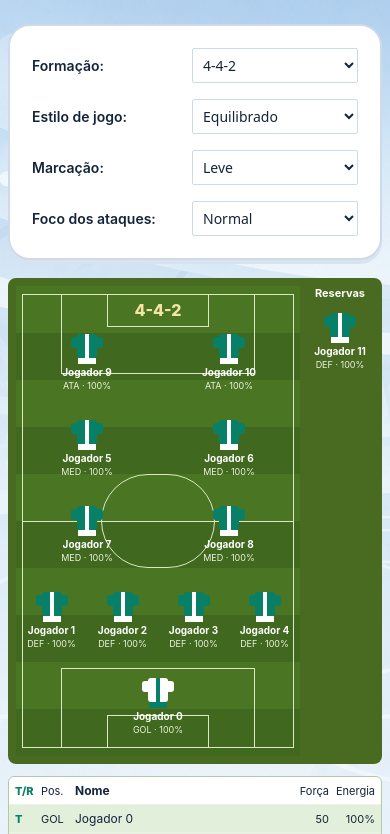
Test case: rapid player swaps stay editable and save the final lineup in order
Expected: the element named "Campo: formação 4-4-2" is shown, [16,286,300,756]
Click the button with aria-label "Substituir Jogador 1": {"x": 52, "y": 620} [18,589,84,652]
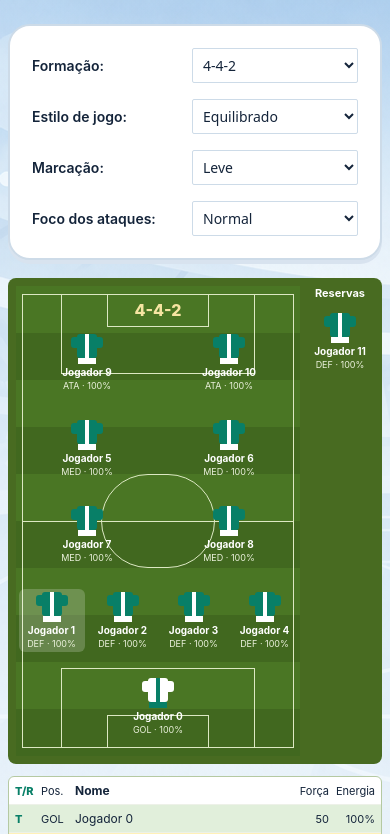
Click the button with aria-label "Reserva Jogador 11": {"x": 340, "y": 342} [307,310,373,373]
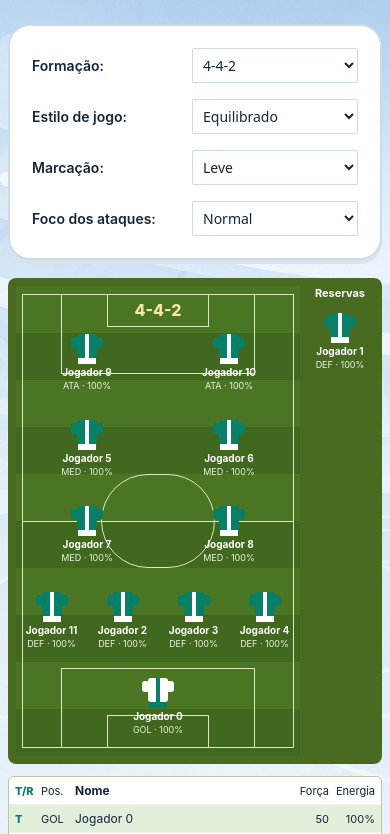
Click the button with aria-label "Substituir Jogador 2": {"x": 122, "y": 620} [90,589,156,652]
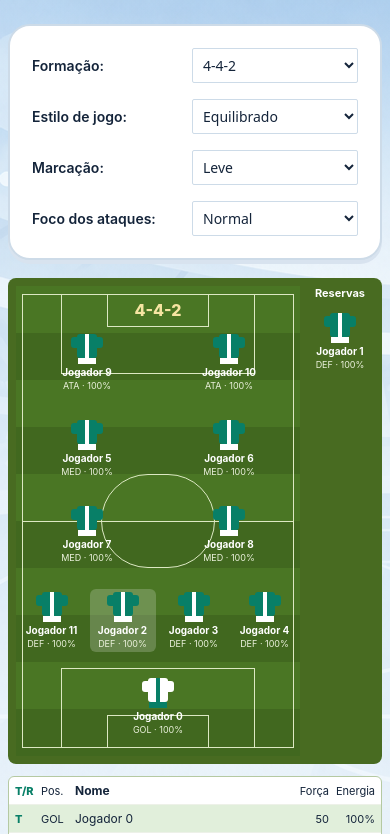
Click the button with aria-label "Substituir Jogador 9": {"x": 87, "y": 362} [54,331,120,394]
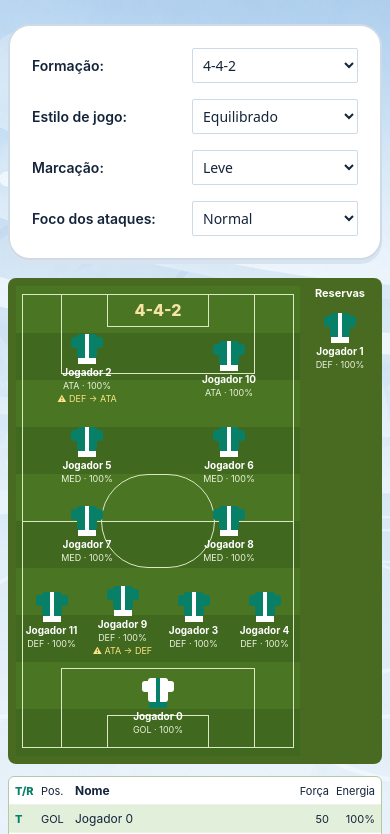
Result: the text named "Jogador 2: fora de posição, natural DEF, escalado em ATA" is shown at [57,393,117,404]
